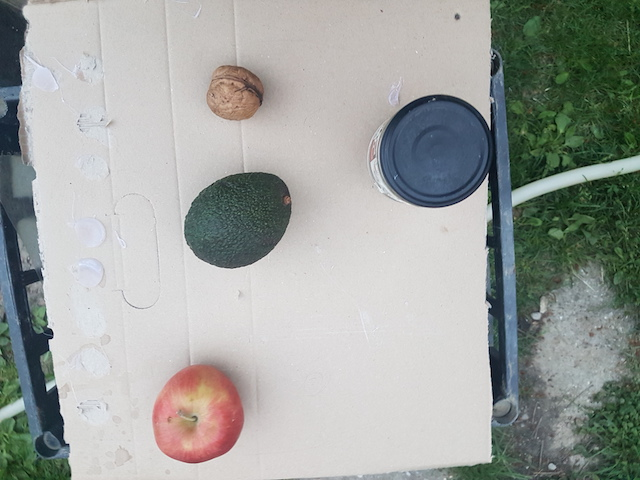apple: (150, 362, 248, 469)
avocado: (178, 171, 294, 268)
nut: (205, 63, 267, 123)
recipient: (375, 93, 488, 211)
